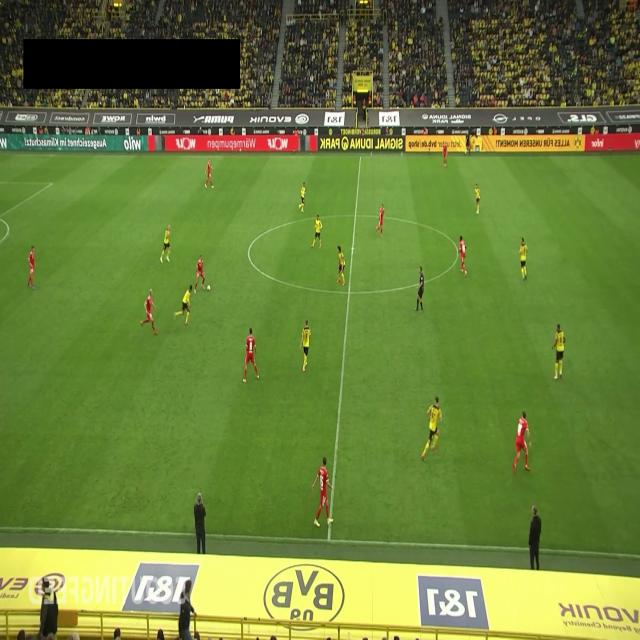ball: (207, 285, 210, 292)
player: (312, 455, 333, 528), (420, 395, 442, 462), (512, 410, 532, 475), (140, 288, 159, 336), (243, 328, 259, 383), (551, 323, 566, 380), (174, 284, 192, 326), (300, 319, 311, 373), (194, 254, 206, 294), (310, 213, 322, 249), (458, 235, 468, 278), (160, 224, 171, 263), (519, 236, 528, 282), (336, 245, 346, 286), (27, 246, 36, 290), (204, 158, 214, 188), (377, 202, 385, 238), (299, 181, 306, 212), (474, 182, 480, 214), (442, 142, 448, 167)
referee: (415, 266, 424, 312), (464, 130, 470, 158)
